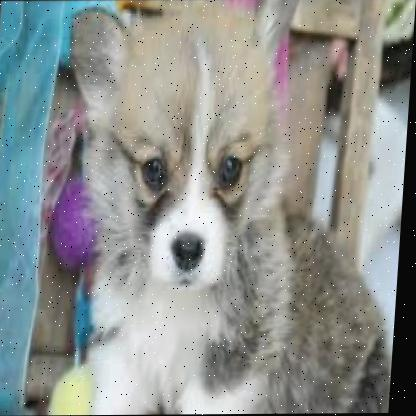dog: (43, 0, 414, 414)
